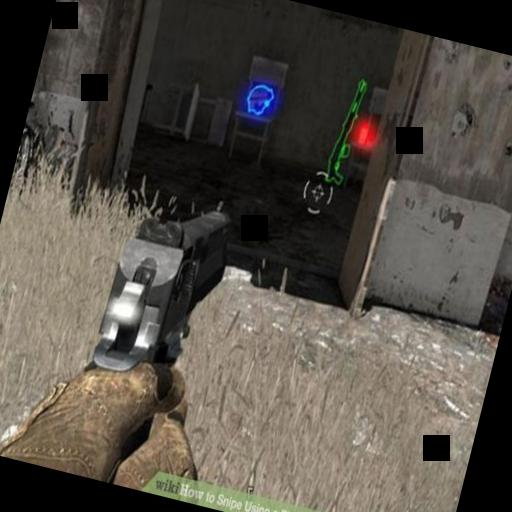Handgun: (77, 172, 246, 422)
